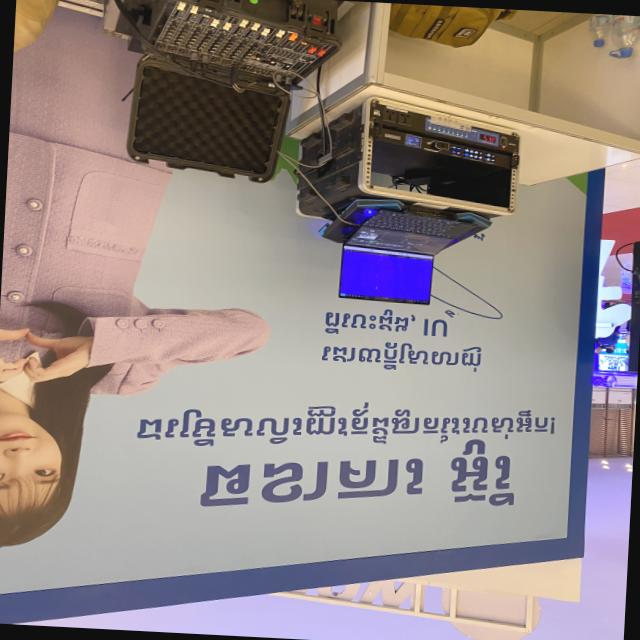1: (192, 437, 532, 514)
Yolov11_80vkh: (128, 397, 572, 451), (312, 339, 493, 377), (319, 305, 423, 336)
